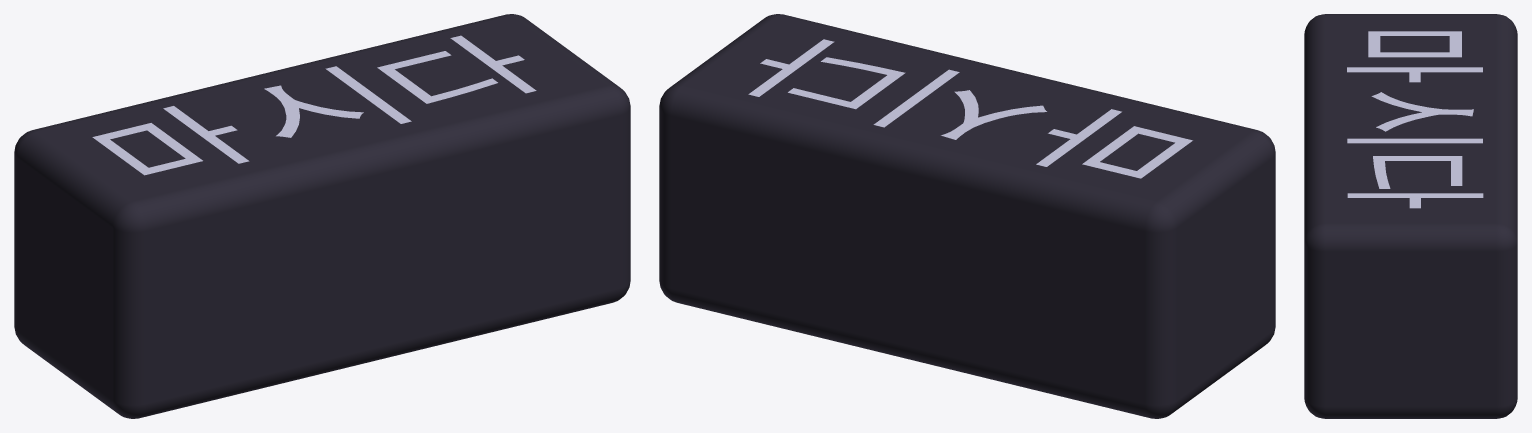
File: drink.glb
3 renders of one model, left to right at view 1: azimuth 30°, elevation 25°; view 2: azimuth 150°, elevation 25°; view 3: azimuth 270°, elevation 25°, orthographic. The views are drawn at different scales.
Parts seen in each view (by area): view 1: Cut, Extrude; view 2: Cut, Extrude; view 3: Cut, Extrude.
Part boxes in pixels (box(x1,y1,x2,y2)): Cut: box(14, 14, 630, 418); Extrude: box(92, 35, 536, 175); Cut: box(659, 14, 1275, 418); Extrude: box(748, 39, 1192, 178); Cut: box(1304, 14, 1517, 418); Extrude: box(1347, 31, 1483, 208).
Size of the model in its own units: 5 by 2 by 2.
